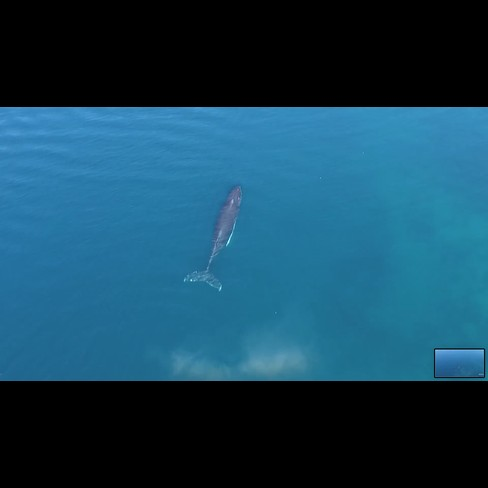hump: (179, 178, 253, 299)
